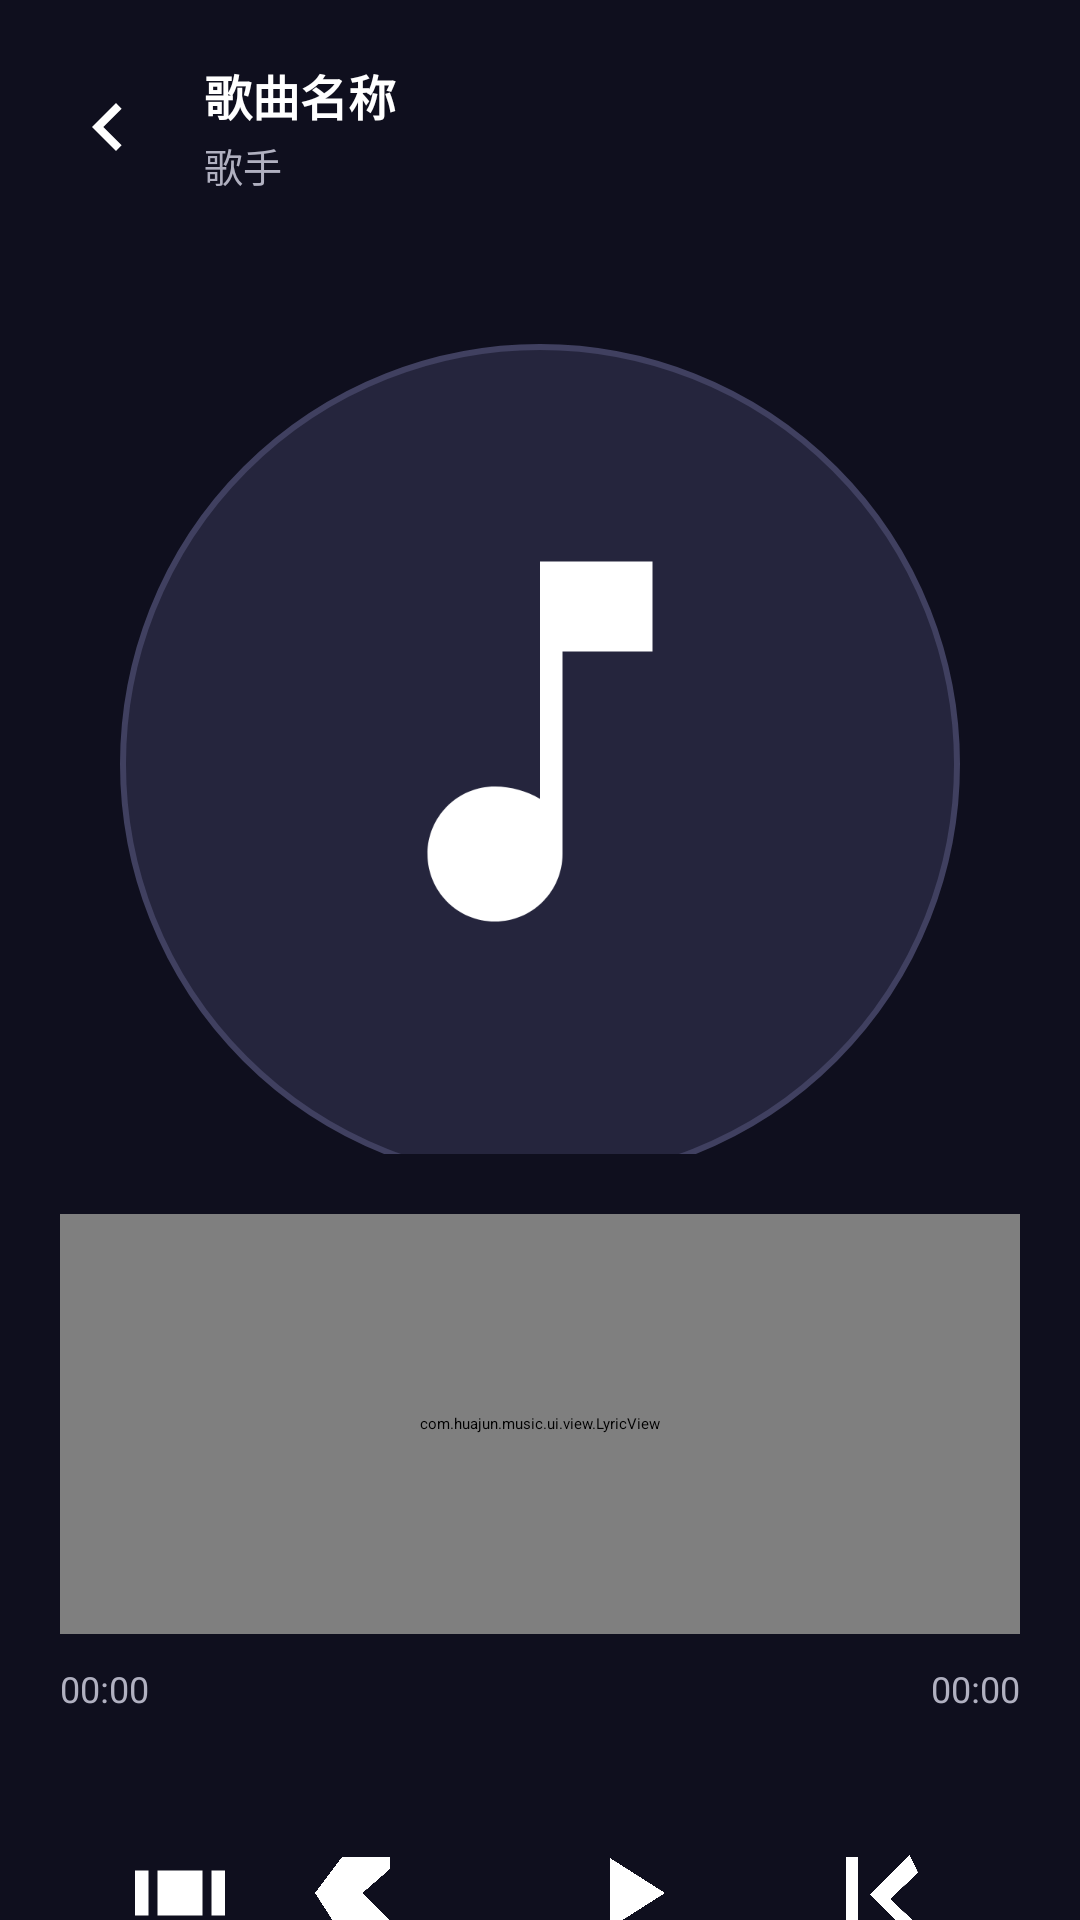

Icon click points for this 1080×1920 phone screenshot, format point (x, y):
back: point (107, 127)
